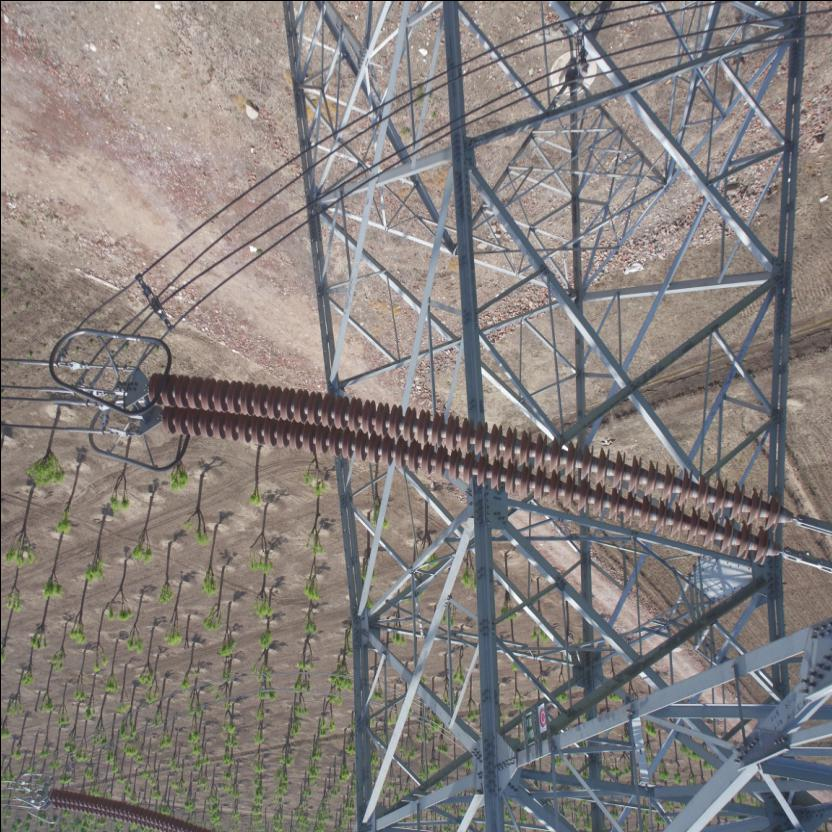insulator: (142, 370, 826, 573)
